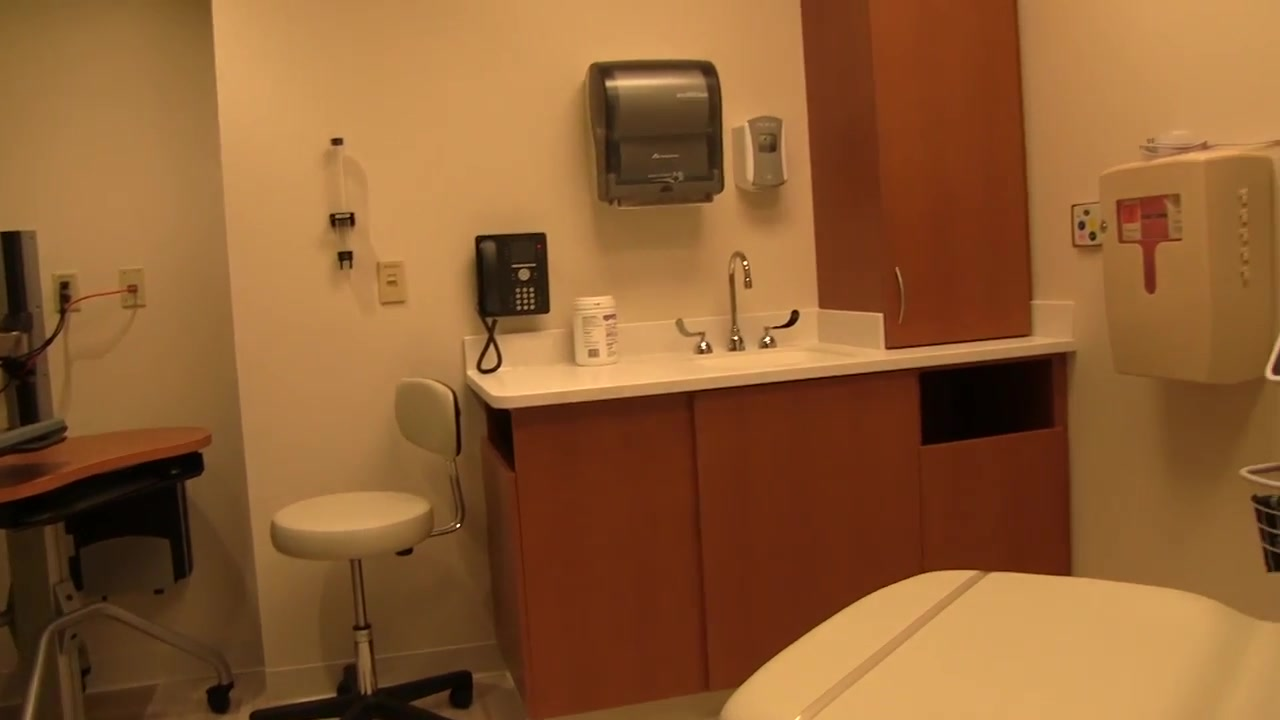cabinet: (804, 1, 1037, 334)
chair: (269, 374, 475, 720)
counter: (465, 343, 1070, 720)
countertop: (465, 341, 883, 414)
dispenser: (587, 58, 723, 204), (734, 113, 785, 195)
exam_table: (724, 569, 1280, 720)
faucet: (675, 250, 801, 352)
handle: (889, 268, 911, 322)
medical_waste_container: (1102, 151, 1280, 380)
sink: (692, 351, 858, 373)
table: (1, 424, 234, 720)
telephone: (470, 233, 551, 375)
